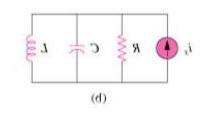Capacitor: (60, 38, 88, 63)
